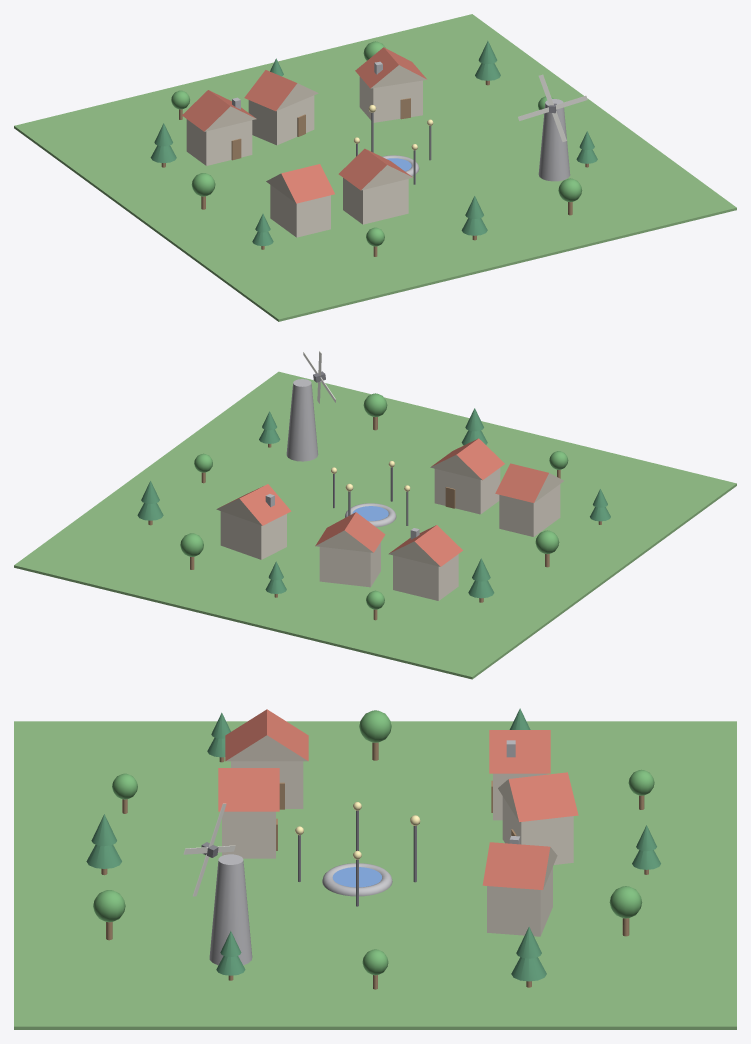
File: village.gltf
The picture shows the model from 3 angles, top to bottom: view 1: azimuth 30°, elevation 25°; view 2: azimuth 150°, elevation 25°; view 3: azimuth 270°, elevation 25°; orthographic projection. The views are drawn at different scales.
Parts seen in each view (by area): view 1: Ground, House 1, House Mirrored, House 2, House 3, House 4, Windmill, Tree 12, Tree 4, Tree 8, Tree 3, Tree 7; view 2: Ground, House Mirrored, House 1, House 2, House 3, House 4, Windmill, Fountain, Tree 12, Tree 8; view 3: Ground, House 3, House 2, House Mirrored, House 4, Windmill, House 1, Fountain, Tree 4, Tree 12, Tree 11, Tree 7 (+7 smaller).
Part boxes in pixels (bbox=[...]): Ground: bbox=[14, 14, 736, 321]; House 1: bbox=[182, 90, 256, 165]; House Mirrored: bbox=[338, 148, 412, 224]; House 2: bbox=[244, 70, 318, 145]; House 3: bbox=[355, 47, 427, 122]; House 4: bbox=[266, 164, 334, 237]; Windmill: bbox=[538, 99, 570, 181]; Tree 12: bbox=[475, 41, 500, 85]; Tree 4: bbox=[461, 196, 487, 240]; Tree 8: bbox=[150, 123, 176, 167]; Tree 3: bbox=[558, 178, 582, 215]; Tree 7: bbox=[191, 173, 215, 209]; Ground: bbox=[14, 371, 736, 679]; House Mirrored: bbox=[430, 438, 504, 514]; House 1: bbox=[388, 525, 462, 600]; House 2: bbox=[315, 512, 385, 587]; House 3: bbox=[216, 484, 291, 559]; House 4: bbox=[495, 463, 563, 536]; Windmill: bbox=[286, 379, 318, 461]; Fountain: bbox=[345, 503, 396, 527]; Tree 12: bbox=[137, 481, 163, 525]; Tree 8: bbox=[468, 558, 494, 602]; Ground: bbox=[14, 721, 736, 1029]; House 3: bbox=[482, 842, 557, 936]; House 2: bbox=[498, 772, 578, 864]; House Mirrored: bbox=[218, 768, 279, 858]; House 4: bbox=[225, 709, 308, 809]; Windmill: bbox=[209, 854, 252, 965]; House 1: bbox=[489, 730, 550, 820]; Fountain: bbox=[322, 863, 392, 896]; Tree 4: bbox=[86, 814, 121, 875]; Tree 12: bbox=[511, 926, 546, 987]; Tree 11: bbox=[609, 886, 642, 936]; Tree 7: bbox=[359, 710, 391, 760].
Bounding box in the file's own units: 40 × 9.17 × 40.
